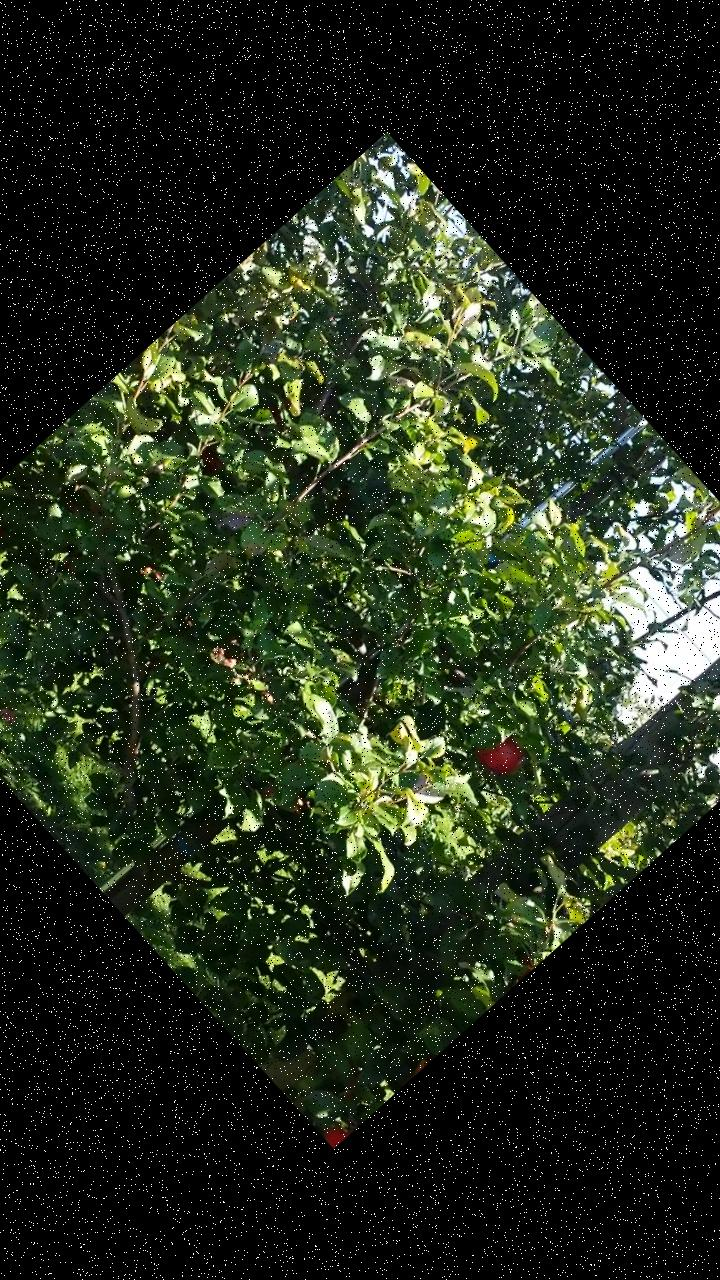Apple: (473, 726, 526, 780), (322, 1121, 349, 1148)
